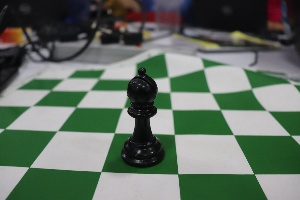black_bishop: (109, 53, 174, 178)
